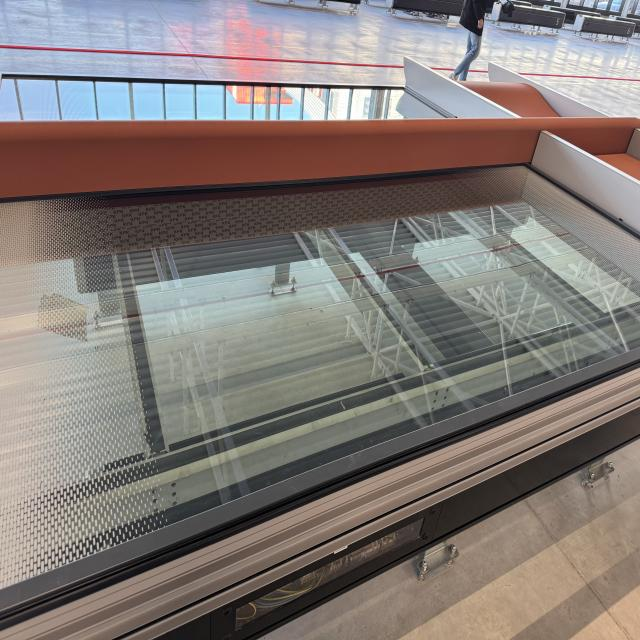ok: (0, 58, 639, 623)
